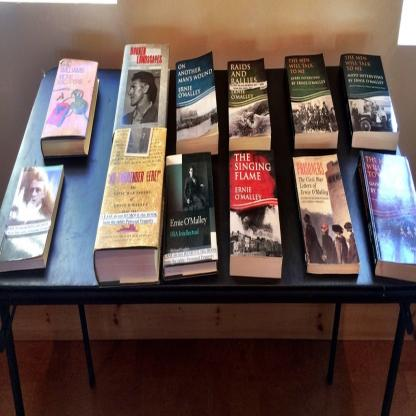book: (94, 127, 167, 288), (291, 147, 358, 276), (356, 159, 416, 276), (0, 168, 64, 275), (228, 151, 281, 275), (165, 157, 219, 278), (40, 58, 102, 157), (282, 53, 340, 153), (110, 44, 171, 138), (339, 55, 401, 145), (175, 48, 219, 150), (229, 65, 271, 153)
